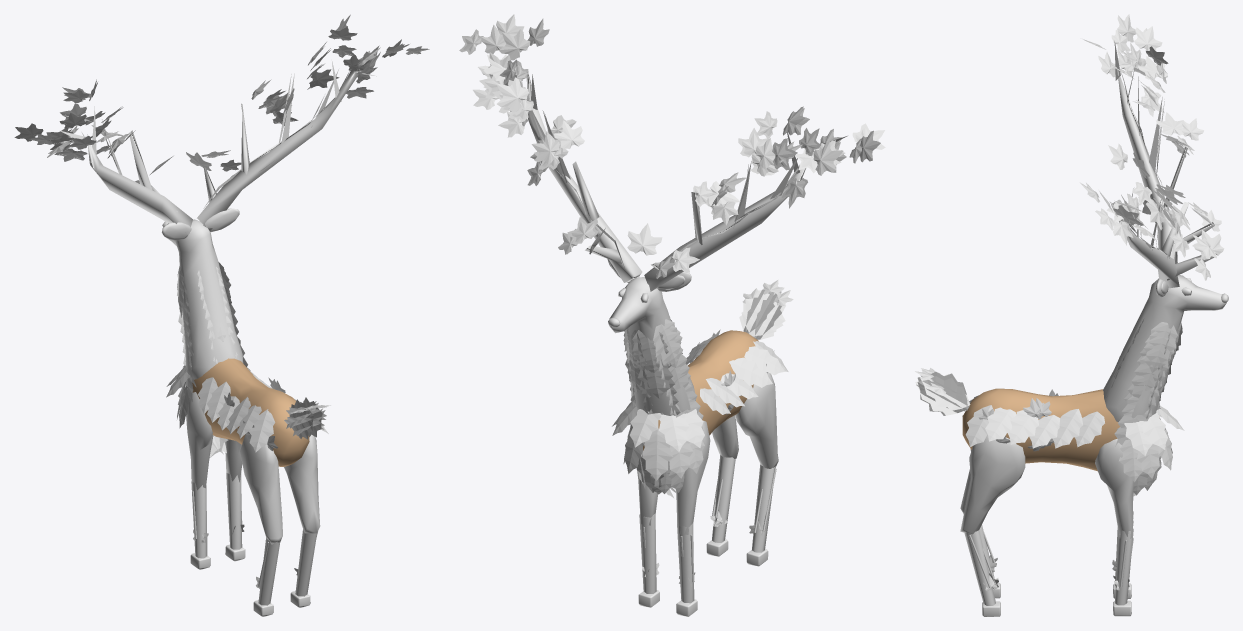
The model's file is EmberStag.glb.
The picture shows the model from 3 angles, left to right: view 1: azimuth 30°, elevation 25°; view 2: azimuth 150°, elevation 25°; view 3: azimuth 270°, elevation 25°; orthographic projection. The views are drawn at different scales.
Visible parts, largest first — view 1: HeadAntlerWood, HeadFur, Fur, LegBRFur, HeadPlume2, LegBLFur, HeadPlume3, LegFRFur, Plume3, HeadPlume4, HeadPlume, Plume (+9 smaller); view 2: HeadAntlerWood, HeadFur, HeadPlume3, HeadPlume, Plume, HeadPlume2, Fur, Plume2, HeadPlume4, LegBRFur, Plume3, HeadGlow (+12 smaller); view 3: HeadFur, Fur, HeadAntlerWood, LegBLFur, HeadPlume3, HeadPlume2, Plume, Plume2, LegFLFur, Plume3, HeadPlume, TailPlume4 (+8 smaller).
Part boxes in pixels (box(x1,y1,x2,y2)): HeadAntlerWood: box(60, 61, 358, 235); HeadFur: box(167, 219, 243, 379); Fur: box(192, 358, 309, 466); LegBRFur: box(240, 434, 282, 544); HeadPlume2: box(14, 14, 409, 390); LegBLFur: box(284, 434, 320, 533); HeadPlume3: box(46, 27, 380, 402); LegFRFur: box(186, 392, 213, 490); Plume3: box(166, 365, 285, 452); HeadPlume4: box(51, 45, 424, 361); HeadPlume: box(29, 39, 404, 175); Plume: box(166, 366, 328, 438); HeadAntlerWood: box(526, 72, 847, 291); HeadFur: box(609, 277, 695, 415); HeadPlume3: box(478, 18, 880, 430); HeadPlume: box(473, 24, 861, 269); Plume: box(612, 329, 785, 480); HeadPlume2: box(496, 14, 880, 417); Fur: box(643, 330, 758, 450); Plume2: box(624, 336, 772, 497); HeadPlume4: box(463, 33, 843, 321); LegBRFur: box(735, 372, 778, 468); Plume3: box(612, 341, 788, 447); HeadGlow: box(459, 29, 799, 302); HeadFur: box(1103, 275, 1226, 421); Fur: box(962, 388, 1159, 471); HeadAntlerWood: box(1111, 41, 1214, 288); LegBLFur: box(960, 435, 1025, 534); HeadPlume3: box(1084, 26, 1214, 446); HeadPlume2: box(1080, 14, 1221, 436); Plume: box(965, 405, 1172, 478); Plume2: box(985, 389, 1172, 495); LegFLFur: box(1095, 438, 1133, 538); Plume3: box(969, 395, 1184, 456); HeadPlume: box(1099, 29, 1224, 259); TailPlume4: box(915, 371, 970, 415).
Bounding box in the file's own units: 3.7 × 4.49 × 2.45.
